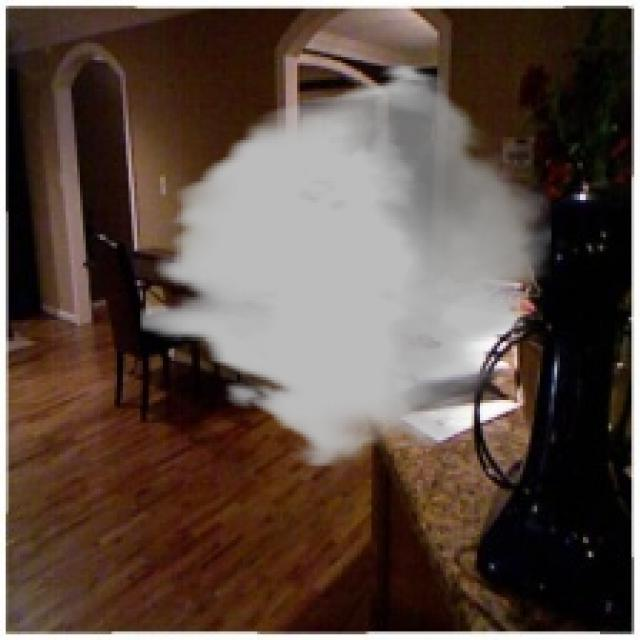smoke: (140, 63, 551, 468)
